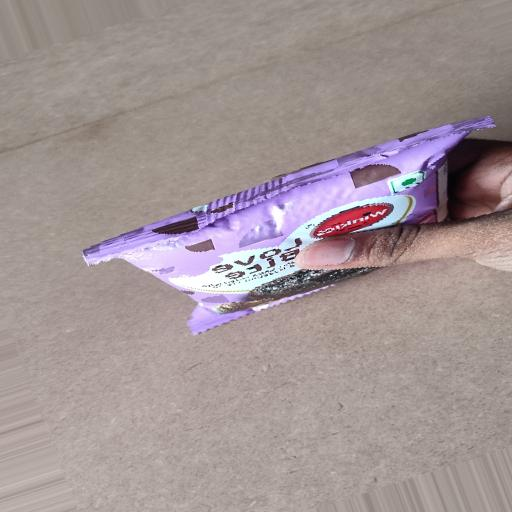Winkies Love Bite cake: (69, 89, 502, 401)
